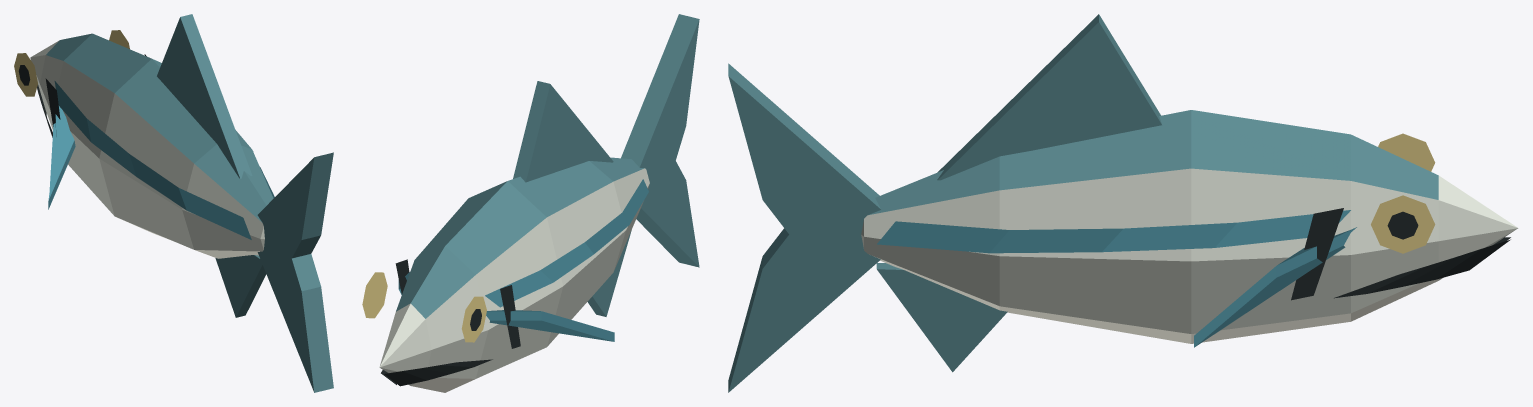
The model's file is boqueron.glb.
3 renders of one model, left to right at view 1: azimuth 30°, elevation 25°; view 2: azimuth 150°, elevation 25°; view 3: azimuth 270°, elevation 25°, orthographic. The views are drawn at different scales.
Parts seen in each view (by area): view 1: Boqueron_Mesh; view 2: Boqueron_Mesh; view 3: Boqueron_Mesh.
Boxes of the visible parts, x1,y1,x2,y2 form: Boqueron_Mesh: [14, 14, 333, 392]; Boqueron_Mesh: [362, 14, 699, 392]; Boqueron_Mesh: [728, 14, 1518, 392].
Bounding box in the file's own units: 0.1674 × 0.214 × 0.4158.
